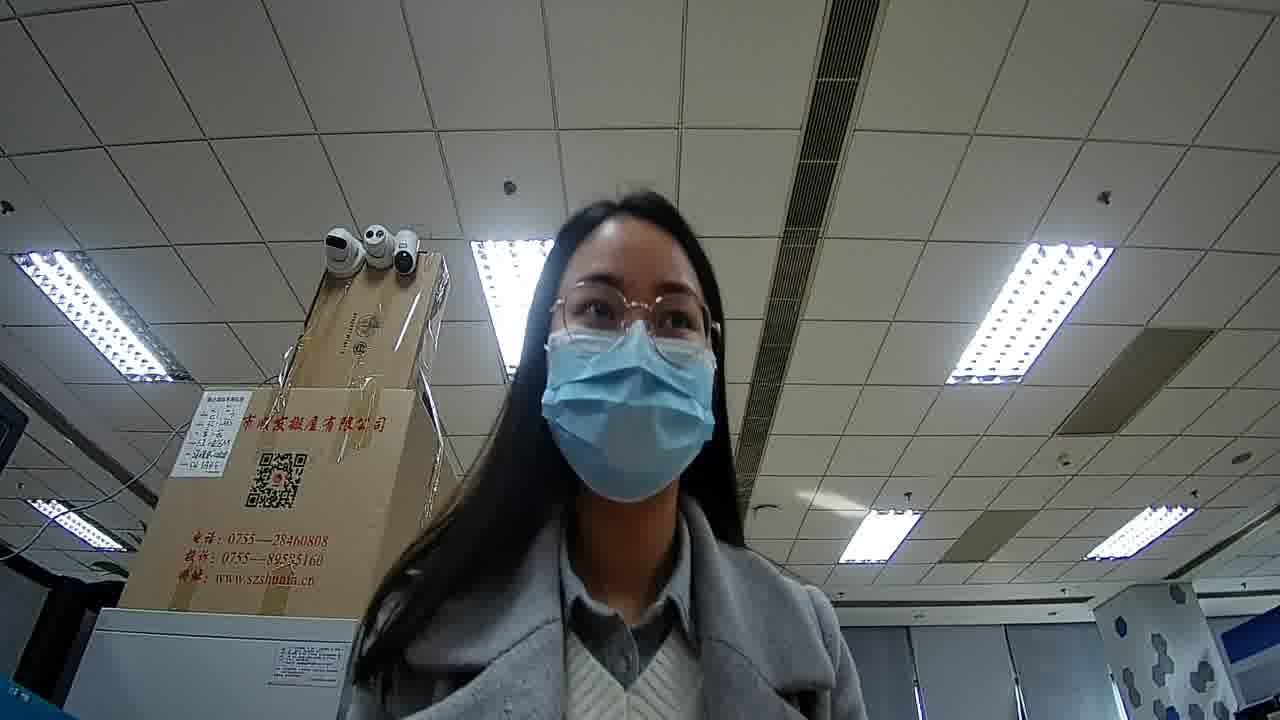face: (546, 202, 723, 492)
mask: (550, 332, 720, 490)
person: (400, 185, 859, 719)
